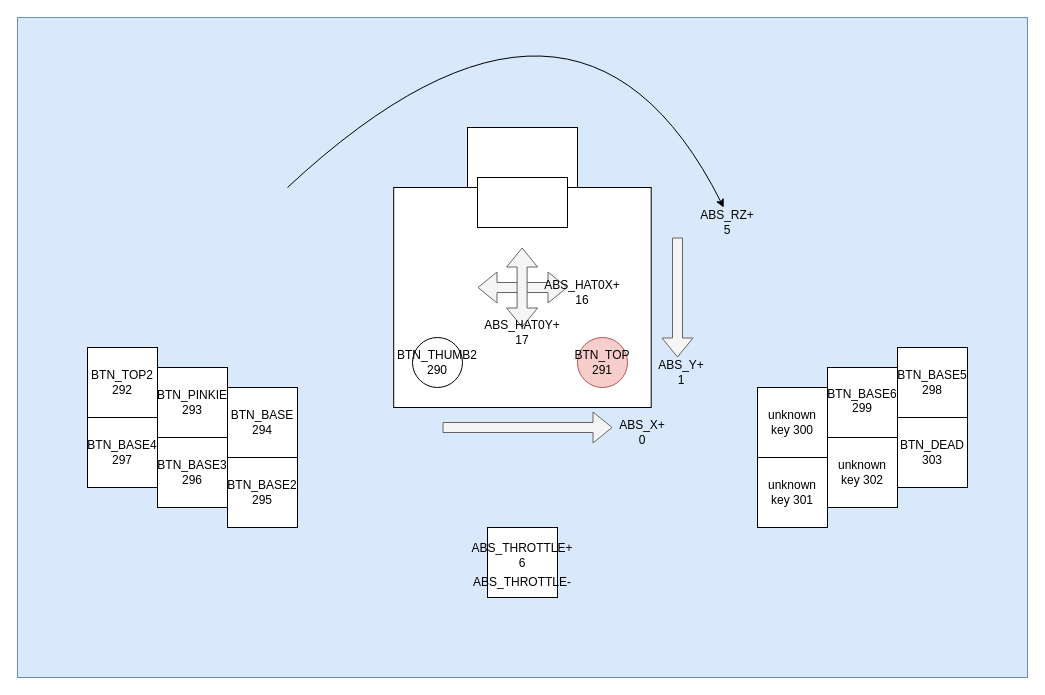
Image size: 1045x695. Some labels were removed from this diagram. Here are the shapes that lost their labels. From the top down, the centre of each, then its label:
At (522,162): "BTN_TRIGGER 288".
At (522,202): "BTN_THUMB 289".
